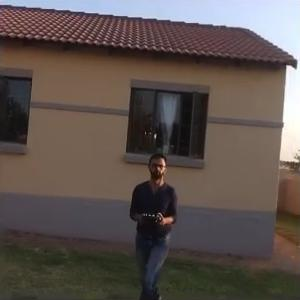follow: (124, 149, 180, 298)
